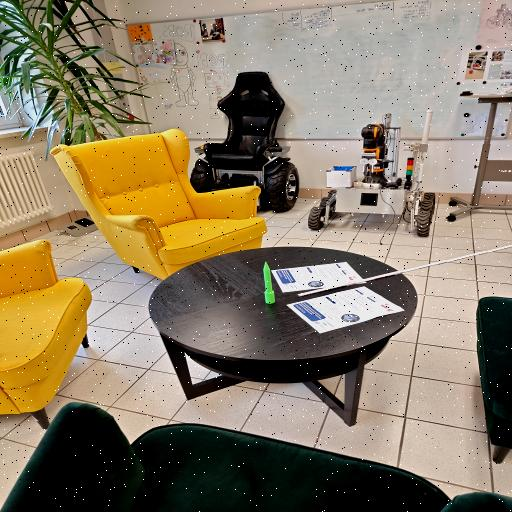Probe-Detection: (263, 262, 275, 304)
